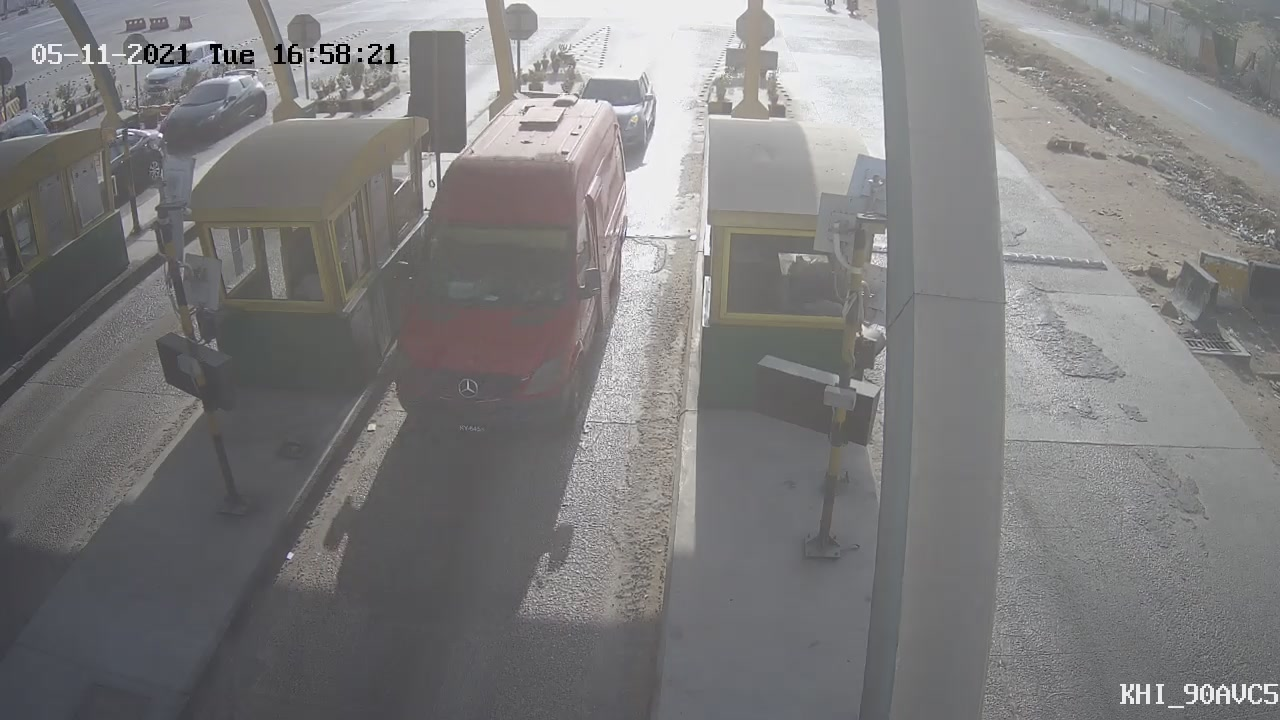F2: (361, 70, 653, 461)
